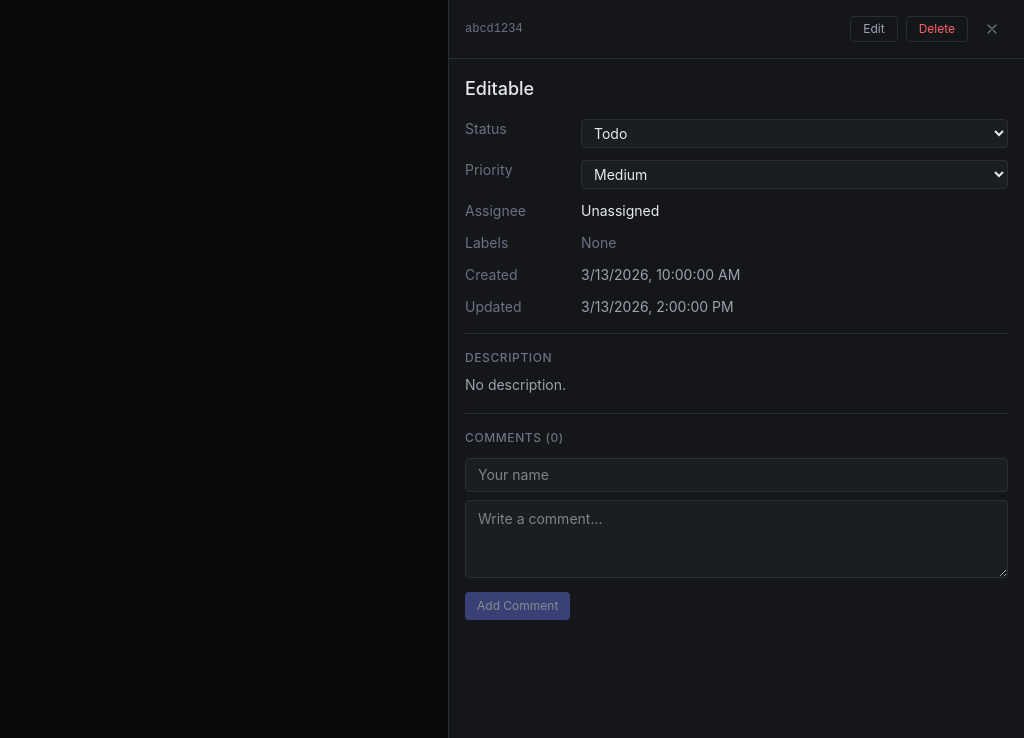
Test: TaskDetail › enters edit mode when Edit is clicked
The image size is (1024, 738).
What coordinates should you click on to do the following:
click the button "Edit"
I would click on:
 (874, 29)
Its box is x1=850 y1=16 x2=898 y2=42.
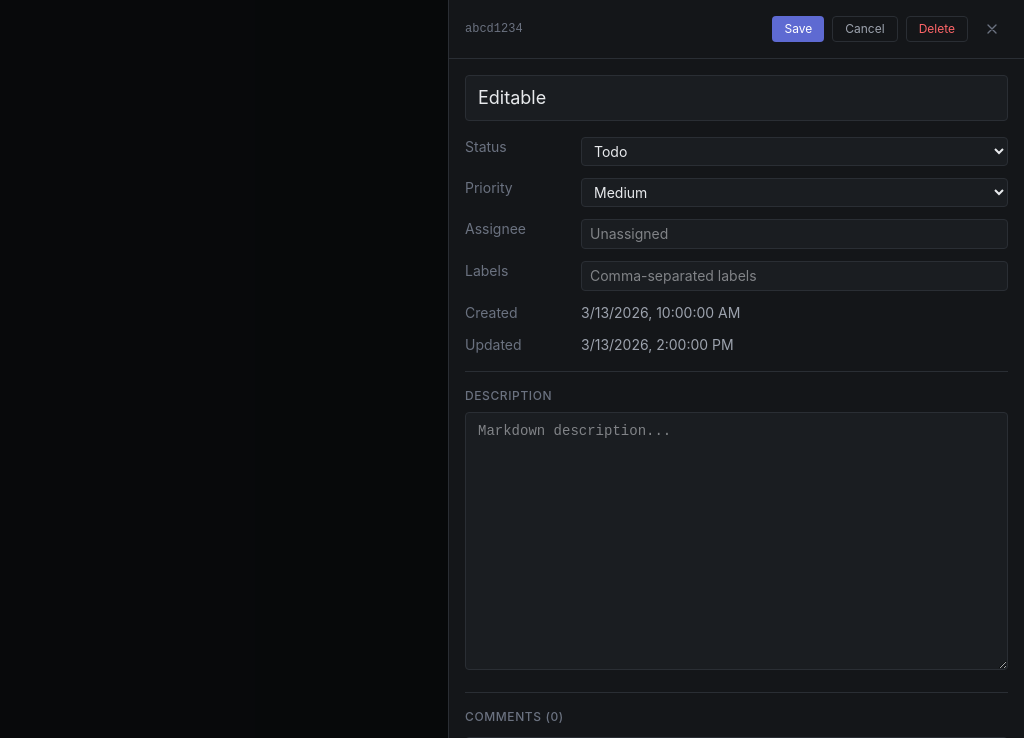
Now the button "Save" is shown, box x1=772 y1=16 x2=824 y2=42
Now the button "Cancel" is shown, box x1=832 y1=16 x2=898 y2=42
